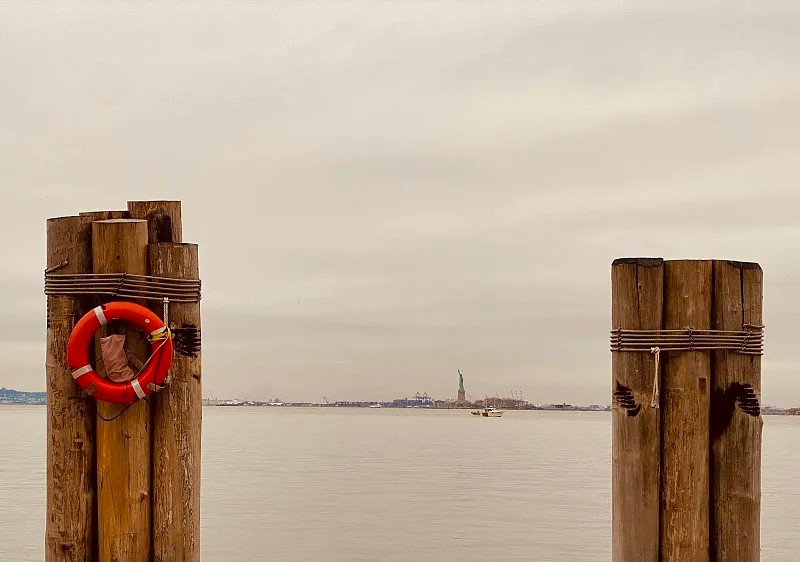SL: (457, 371, 465, 403)
